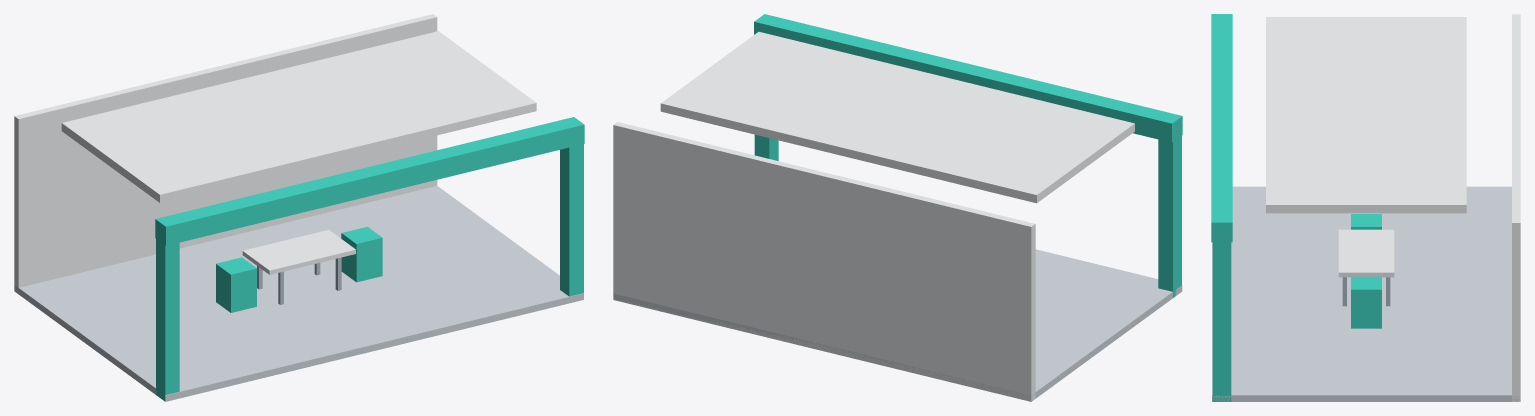
The picture shows the model from 3 angles, left to right: view 1: azimuth 30°, elevation 25°; view 2: azimuth 150°, elevation 25°; view 3: azimuth 270°, elevation 25°; orthographic projection. The views are drawn at different scales.
Visible parts, largest first — view 1: Exhibition Booth Concept; view 2: Exhibition Booth Concept; view 3: Exhibition Booth Concept.
Boxes of the visible parts, x1,y1,x2,y2 form: Exhibition Booth Concept: (14,14,584,401); Exhibition Booth Concept: (613,14,1182,401); Exhibition Booth Concept: (1211,14,1520,401).
Bounding box in the file's own units: 8 × 3.34 × 5.02.
